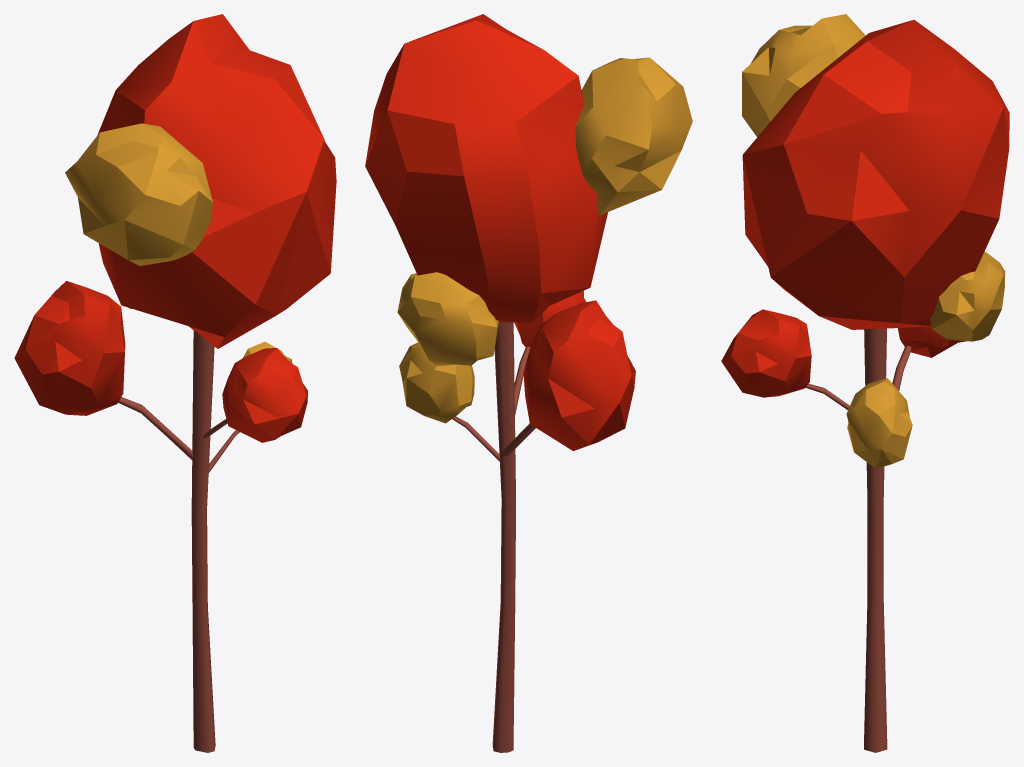
The model's file is SM_Pin.FBX.
3 renders of one model, left to right at view 1: azimuth 30°, elevation 25°; view 2: azimuth 150°, elevation 25°; view 3: azimuth 270°, elevation 25°, orthographic. The views are drawn at different scales.
Parts seen in each view (by area): view 1: SM_Pin; view 2: SM_Pin; view 3: SM_Pin.
Part boxes in pixels (<box>): SM_Pin: <box>14,14,336,752</box>; SM_Pin: <box>365,14,692,752</box>; SM_Pin: <box>721,14,1009,752</box>.
Size of the model in its own units: 260 by 656 by 234.
